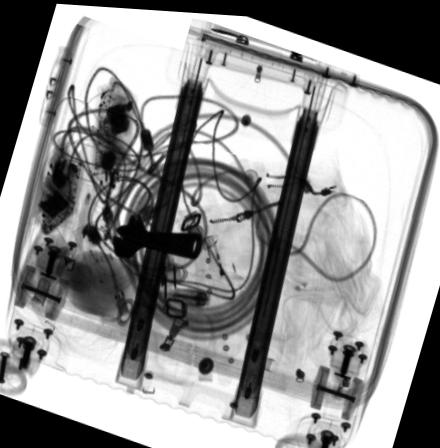Wrench: (111, 211, 203, 256)
